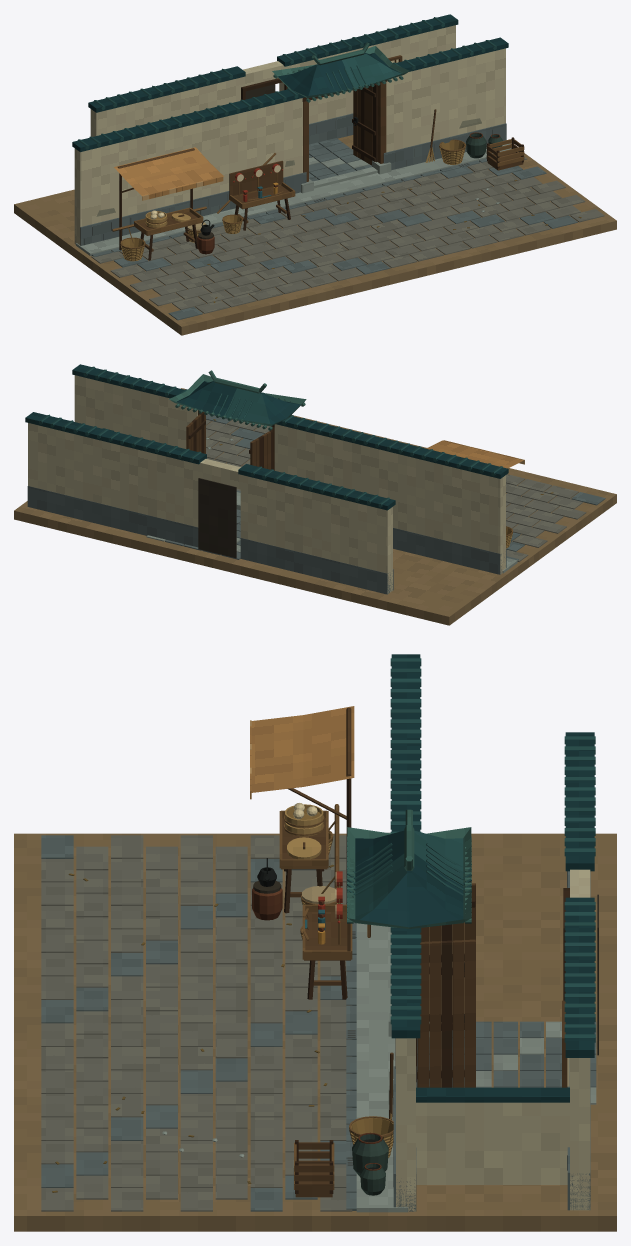
Rendered from rongfu-backstreet.glb.
3 renders of one model, top to bottom at view 1: azimuth 30°, elevation 25°; view 2: azimuth 150°, elevation 25°; view 3: azimuth 270°, elevation 25°, orthographic. The views are drawn at different scales.
Visible parts, largest first — view 1: Backstreet_ground, Boundary_wall, Boundary_wall.001, Boundary_wall.002, Wallside_apron, Rear_gate_roof, Boundary_wall.003, Faded_fabric_awning, Wall_stone_dado, Wall_cap, Wall_cap.003, Wall_cap.002 (+8 smaller); view 2: Backstreet_ground, Boundary_wall, Boundary_wall.003, Boundary_wall.002, Boundary_wall.001, Wall_stone_dado.003, Rear_gate_roof, Wall_stone_dado.002, Courtyard_entry_shadow, Wall_stone_dado, Wall_cap, Wall_cap.003 (+4 smaller); view 3: Backstreet_ground, Lane_return_wall, Rear_gate_roof, Wallside_apron, Faded_fabric_awning, Wall_cap, Wall_cap.003, Boundary_wall.001, Boundary_wall.003, Wall_cap.002, Wall_cap.001, Lane_return_cap (+118 smaller).
Part boxes in pixels (left/top/right/bottom): Backstreet_ground: left=14, top=135, right=616, bottom=335; Boundary_wall: left=74, top=98, right=302, bottom=245; Boundary_wall.001: left=386, top=48, right=505, bottom=152; Boundary_wall.002: left=90, top=77, right=242, bottom=136; Wallside_apron: left=76, top=143, right=511, bottom=255; Rear_gate_roof: left=272, top=46, right=409, bottom=98; Boundary_wall.003: left=279, top=25, right=455, bottom=123; Faded_fabric_awning: left=114, top=147, right=223, bottom=195; Wall_stone_dado: left=75, top=172, right=306, bottom=245; Wall_cap: left=72, top=89, right=304, bottom=152; Wall_cap.003: left=277, top=14, right=458, bottom=66; Wall_cap.002: left=88, top=66, right=245, bottom=112; Backstreet_ground: left=14, top=388, right=616, bottom=625; Boundary_wall: left=274, top=424, right=505, bottom=574; Boundary_wall.003: left=28, top=423, right=198, bottom=527; Boundary_wall.002: left=240, top=475, right=392, bottom=593; Boundary_wall.001: left=74, top=375, right=197, bottom=448; Wall_stone_dado.003: left=27, top=486, right=198, bottom=547; Rear_gate_roof: left=169, top=374, right=306, bottom=426; Wall_stone_dado.002: left=240, top=538, right=393, bottom=594; Courtyard_entry_shadow: left=198, top=478, right=236, bottom=558; Wall_stone_dado: left=393, top=528, right=506, bottom=574; Wall_cap: left=276, top=416, right=508, bottom=478; Wall_cap.003: left=25, top=412, right=206, bottom=464; Backstreet_ground: left=14, top=833, right=616, bottom=1231; Lane_return_wall: left=416, top=1102, right=569, bottom=1184; Rear_gate_roof: left=347, top=827, right=471, bottom=928; Wallside_apron: left=356, top=832, right=408, bottom=1212; Faded_fabric_awning: left=251, top=706, right=354, bottom=792; Wall_cap: left=391, top=654, right=420, bottom=831; Wall_cap.003: left=565, top=897, right=594, bottom=1057; Boundary_wall.001: left=396, top=1038, right=415, bottom=1211; Boundary_wall.003: left=570, top=1058, right=590, bottom=1210; Wall_cap.002: left=565, top=732, right=594, bottom=871; Wall_cap.001: left=391, top=928, right=420, bottom=1038; Lane_return_cap: left=416, top=1087, right=569, bottom=1102.
Bounding box in the file's own units: 13.5 × 4.17 × 9.
30 materials, 30 textured.
